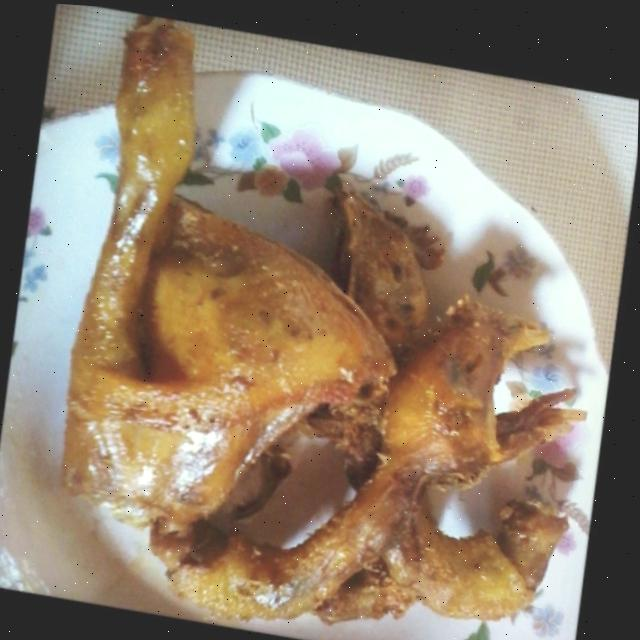鸡肉料理 含炸鸡: (0, 10, 623, 640)
